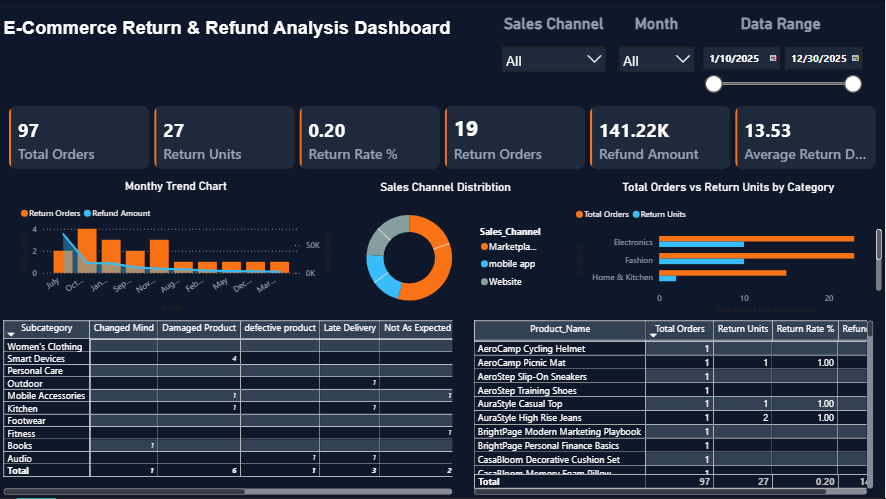

This screenshot's page, from the dashboard's own definition file:
{"tool":"powerbi","page":{"name":"Page 1","canvas":[1280,720],"ordinal":0},"visuals":[{"type":"cardVisual","fields":{"Data":["Customer.Total Orders","Customer.Return Units","Customer.Return Rate %","Customer.Return Orders","Customer.Refund Amount","Customer.Average Return Days"]},"box":[0,140.2,1280,118],"z":0},{"type":"textbox","box":[0,19.7,697.2,87.6],"z":1000},{"type":"slicer","title":"Data Range","fields":{"Values":["Orders.Order_Date"]},"box":[1003,19.7,251,121.6],"z":2000},{"type":"slicer","title":"Sales Channel","fields":{"Values":["Orders.Sales_Channel"]},"box":[715.1,19.7,169.8,95],"z":3000},{"type":"slicer","title":"Month","fields":{"Values":["Orders.Order_Date","Orders.Order_Date.Variation.Date Hierarchy.Month"]},"box":[884.9,19.7,128.7,89.4],"z":4000},{"type":"lineClusteredColumnComboChart","title":"Monthy Trend Chart","fields":{"Y":["Customer.Return Orders"],"Y2":["Customer.Refund Amount"],"Category":["Orders.Order_Date.Variation.Date Hierarchy.Month"]},"box":[24.6,258.8,459.8,196.6],"z":5000},{"type":"donutChart","title":"Sales Channel Distribtion","fields":{"Category":["Orders.Sales_Channel"],"Y":["Customer.Return Orders","Customer.Return Units"]},"box":[484.3,260.2,314.6,194.9],"z":6000},{"type":"clusteredBarChart","title":"Total Orders vs Return Units by Category","fields":{"Category":["Orders.Category"],"Y":["Customer.Total Orders","Customer.Return Units"]},"box":[827,260.2,452.5,198.1],"z":7000},{"type":"pivotTable","fields":{"Rows":["Orders.Subcategory"],"Columns":["Orders.Return_Reason"],"Values":["Customer.Return Units"]},"box":[0,458.3,659.3,261.7],"z":8000},{"type":"tableEx","fields":{"Values":["Product.Product_Name","Customer.Total Orders","Customer.Return Units","Customer.Return Rate %","Customer.Refund Amount"]},"box":[679.5,458.3,588.4,261.7],"z":9000}]}

Visuals, with their boxes in screenshot pixels (x1, y1, x2, y2), scaled from the page's 1280x720 canvas onto the 886x499 screenshot:
cardVisual - Customer.Total Orders x Customer.Return Units: <bbox>0, 97, 885, 179</bbox>
textbox: <bbox>0, 14, 483, 74</bbox>
"Data Range" slicer: <bbox>694, 14, 868, 98</bbox>
"Sales Channel" slicer: <bbox>495, 14, 613, 79</bbox>
"Month" slicer: <bbox>613, 14, 702, 76</bbox>
"Monthy Trend Chart" lineClusteredColumnComboChart: <bbox>17, 179, 335, 316</bbox>
"Sales Channel Distribtion" donutChart: <bbox>335, 180, 553, 315</bbox>
"Total Orders vs Return Units by Category" clusteredBarChart: <bbox>572, 180, 885, 318</bbox>
pivotTable - Orders.Subcategory x Orders.Return_Reason: <bbox>0, 318, 456, 498</bbox>
tableEx - Product.Product_Name x Customer.Total Orders: <bbox>470, 318, 878, 498</bbox>
